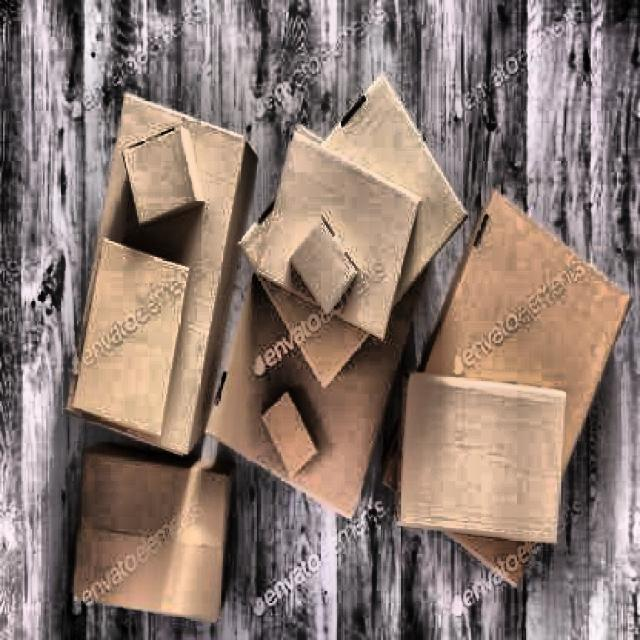Cardbox: (227, 48, 472, 562), (395, 169, 640, 591), (45, 69, 228, 467), (48, 433, 242, 637)
